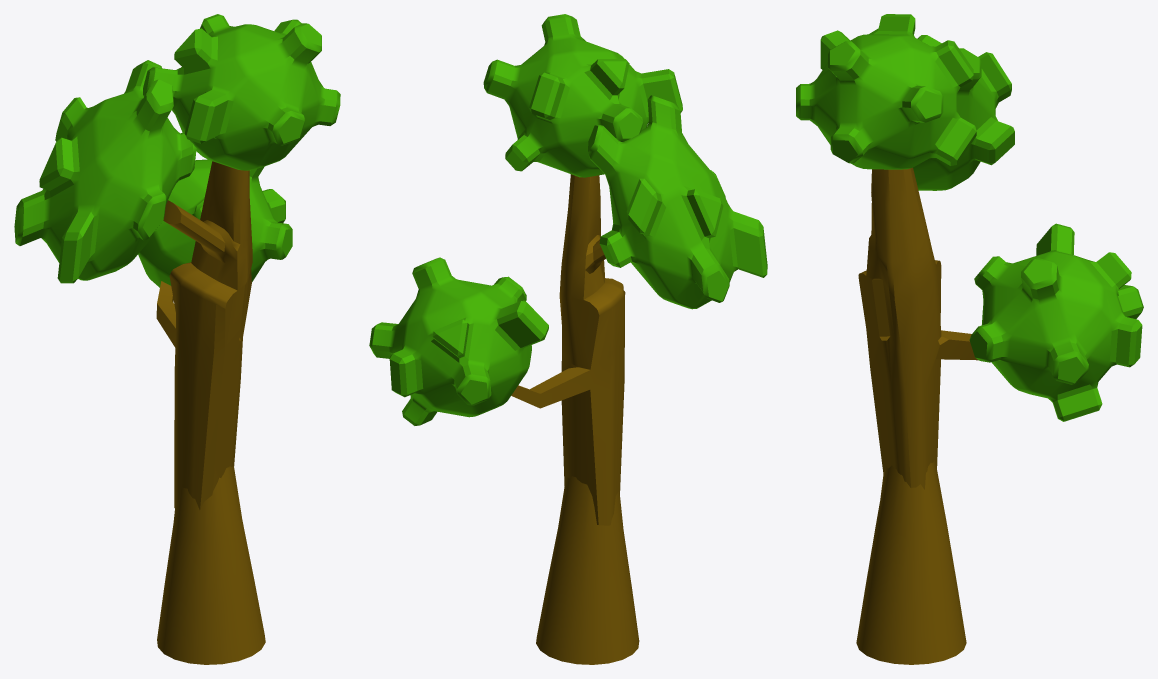
Rendered from WOOD.fbx.
3 renders of one model, left to right at view 1: azimuth 30°, elevation 25°; view 2: azimuth 150°, elevation 25°; view 3: azimuth 270°, elevation 25°, orthographic. The views are drawn at different scales.
Parts seen in each view (by area): view 1: pasted__pPlatonic2, polySurface2, pasted__pPlatonic1, pCylinder1, pPlatonic1; view 2: pasted__pPlatonic2, pPlatonic1, polySurface2, pasted__pPlatonic1, pCylinder1; view 3: pPlatonic1, polySurface2, pasted__pPlatonic1, pCylinder1, pasted__pPlatonic2.
Boxes of the visible parts, x1,y1,x2,y2 form: pasted__pPlatonic2: (14,60,196,283); polySurface2: (156,161,252,510); pasted__pPlatonic1: (143,14,340,170); pCylinder1: (157,465,265,664); pPlatonic1: (138,159,292,287); pasted__pPlatonic2: (588,95,767,309); pPlatonic1: (369,257,548,425); polySurface2: (511,174,625,525); pasted__pPlatonic1: (483,14,682,177); pCylinder1: (536,476,639,664); pPlatonic1: (969,223,1143,421); polySurface2: (858,167,978,489); pasted__pPlatonic1: (796,14,976,169); pCylinder1: (856,459,966,664); pasted__pPlatonic2: (869,28,1014,190).
Bounding box in the file's own units: 8.23 × 15.43 × 7.71.
